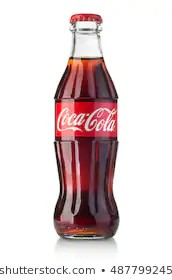coke-glass-bottle: (33, 8, 133, 241)
